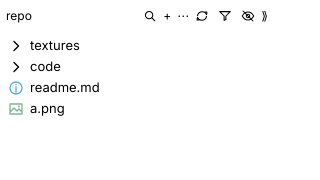
Scenario: filters texture branches and keeps Markdown as a separate mode
Click the button named "Filter project files" at (225, 16), box [213,7,237,25]
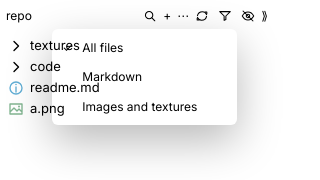
Now the menu item "✓ All files" is shown, box [56,33,233,62]
Press Escape in the menu, box [52,29,237,125]
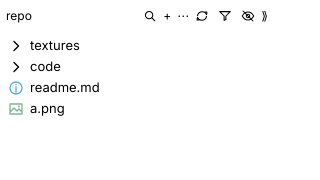
Now the menu is gone
Click the button named "Filter project files" at (225, 16), box [213,7,237,25]
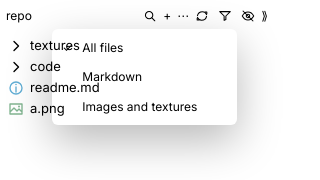
Click the menu item "Images and textures" at (145, 106), box [56,92,233,121]
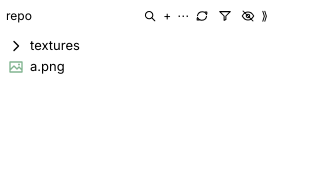
Expected: the button "textures" is shown, [4,36,272,55]
Now the button "code" is gone
Now the button "readme.md" is gone
Click the button named "Filter project files" at (225, 16), box [213,7,237,25]
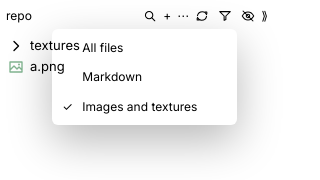
Click the menu item "Markdown" at (145, 77), box [56,62,233,92]
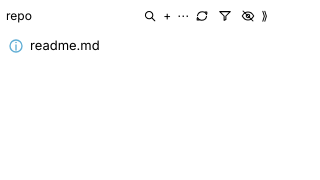
Now the button "a.png" is gone
Now the button "readme.md" is shown, box [4,36,272,55]
